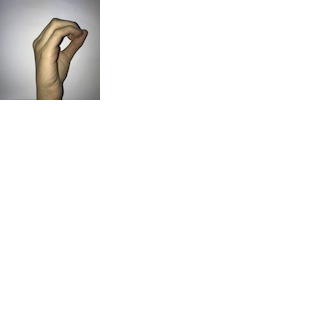rock: (25, 13, 90, 98)
